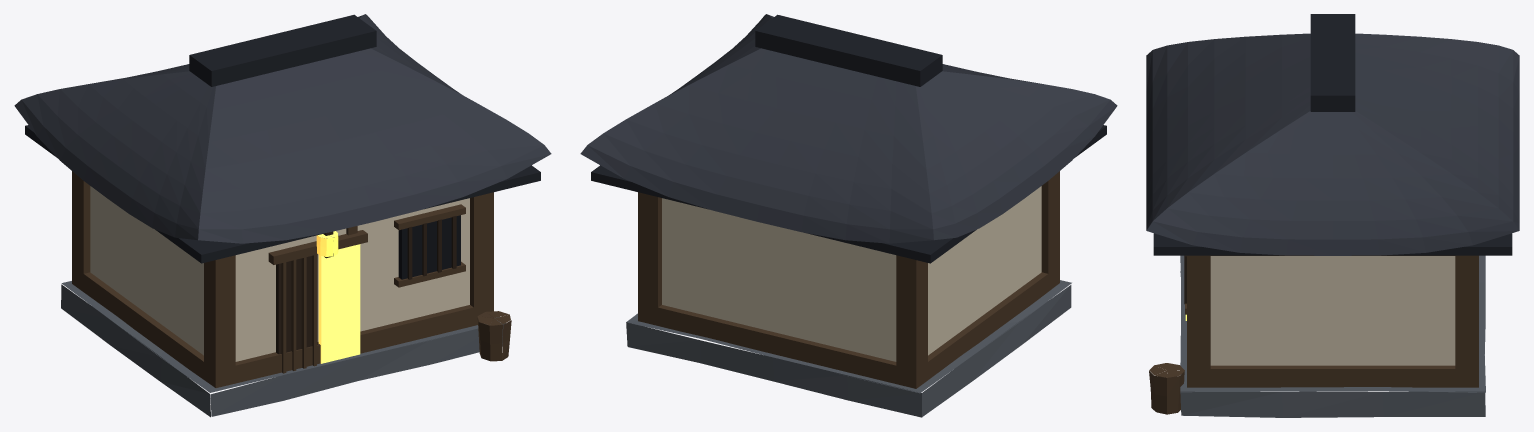
Rendered from 2-19_house_b_small.glb.
The picture shows the model from 3 angles, left to right: view 1: azimuth 30°, elevation 25°; view 2: azimuth 150°, elevation 25°; view 3: azimuth 270°, elevation 25°; orthographic projection.
Visible parts, largest first — view 1: 民家B（小）; view 2: 民家B（小）; view 3: 民家B（小）.
Part boxes in pixels (<box>): 民家B（小）: <box>14,14,551,417</box>; 民家B（小）: <box>580,14,1117,417</box>; 民家B（小）: <box>1146,14,1519,417</box>.
Bounding box in the file's own units: 6 × 4.62 × 5.4.
